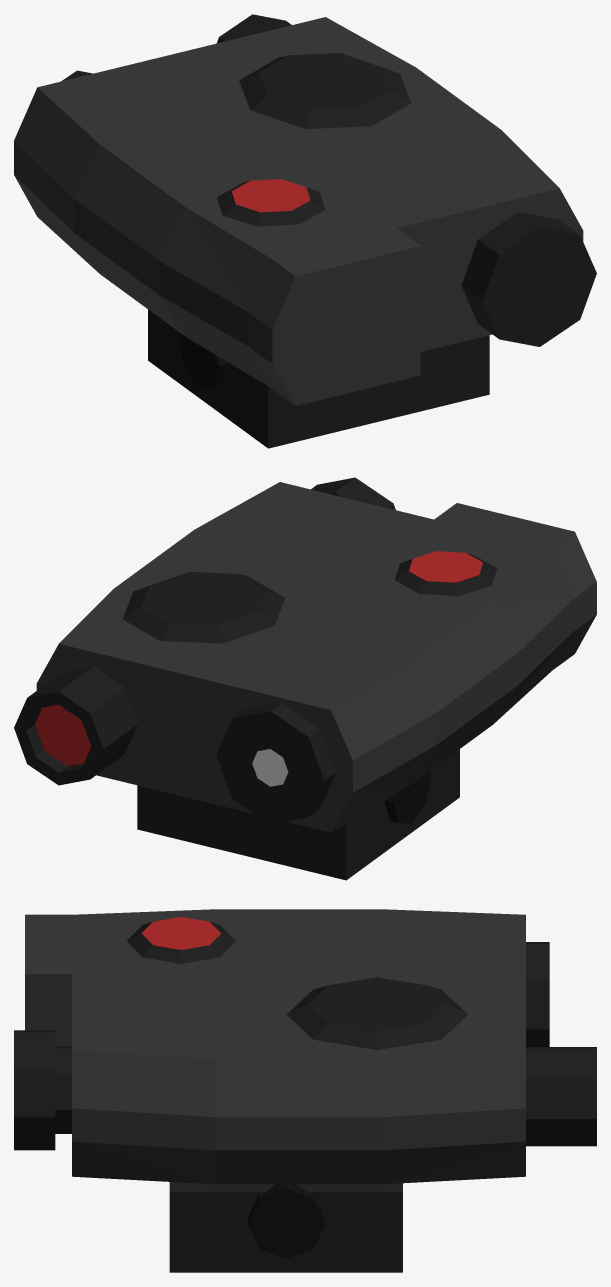
Rendered from Laser.glb.
The picture shows the model from 3 angles, top to bottom: view 1: azimuth 30°, elevation 25°; view 2: azimuth 150°, elevation 25°; view 3: azimuth 270°, elevation 25°; orthographic projection. The views are drawn at different scales.
Parts seen in each view (by area): view 1: Laser_East; view 2: Laser_East; view 3: Laser_East.
Boxes of the visible parts, x1,y1,x2,y2 form: Laser_East: (14,14,596,448); Laser_East: (14,477,596,880); Laser_East: (14,909,596,1272).
Bounding box in the file's own units: 0.0768 × 0.0496 × 0.1087.
